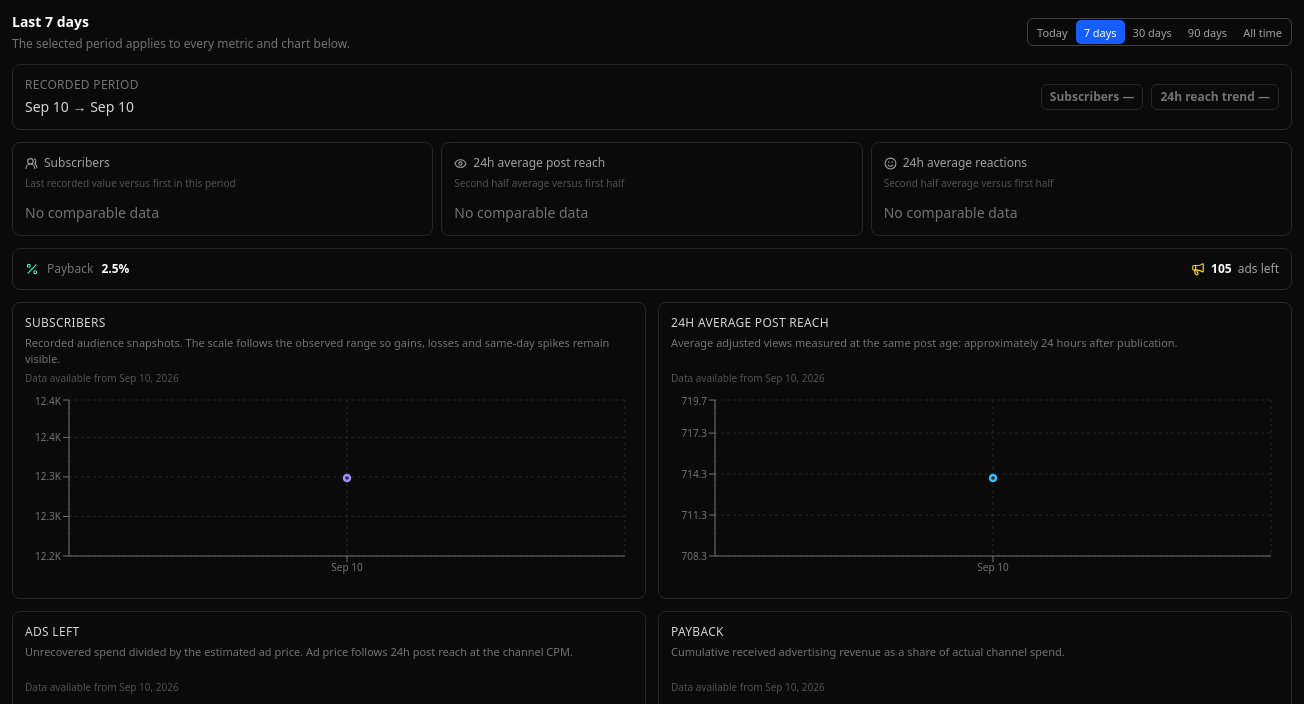
Test: ChannelPerformanceHistoryPanel › compares today's latest values with yesterday's final values
The image size is (1304, 704).
Click the button "Today".
click(1052, 32)  # box [1029, 20, 1076, 44]
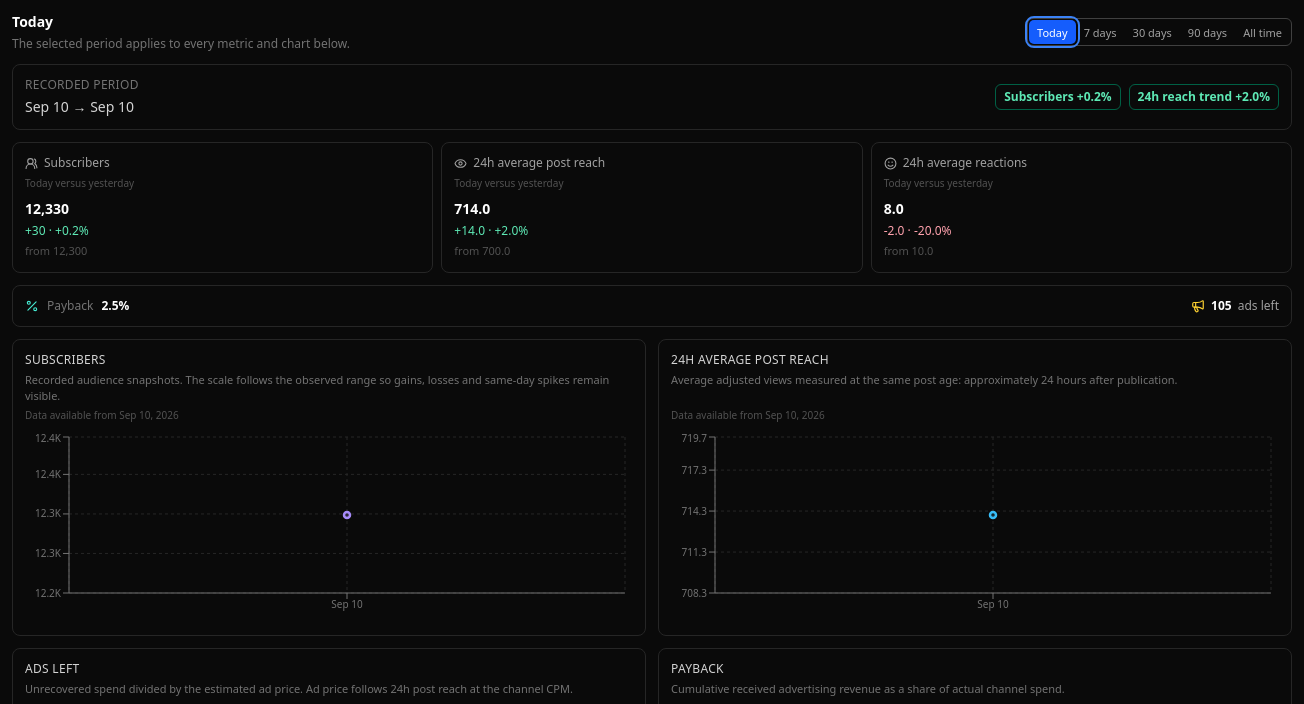
expect the text "Today versus yesterday" is shown 3 times: met, box [25, 176, 134, 190]; [454, 176, 564, 190]; [884, 176, 993, 190]
expect the text "+30 · +0.2%" is shown: met, box [25, 222, 89, 239]
expect the text "+14.0 · +2.0%" is shown: met, box [454, 222, 528, 239]
